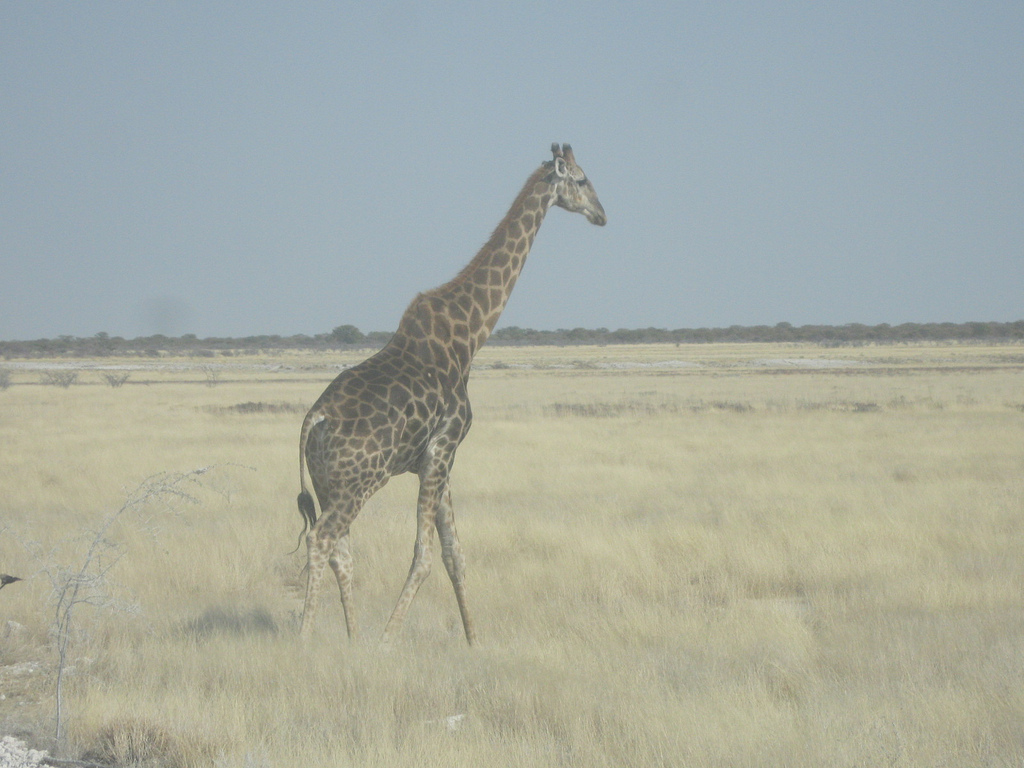giraffe: (260, 112, 653, 647)
